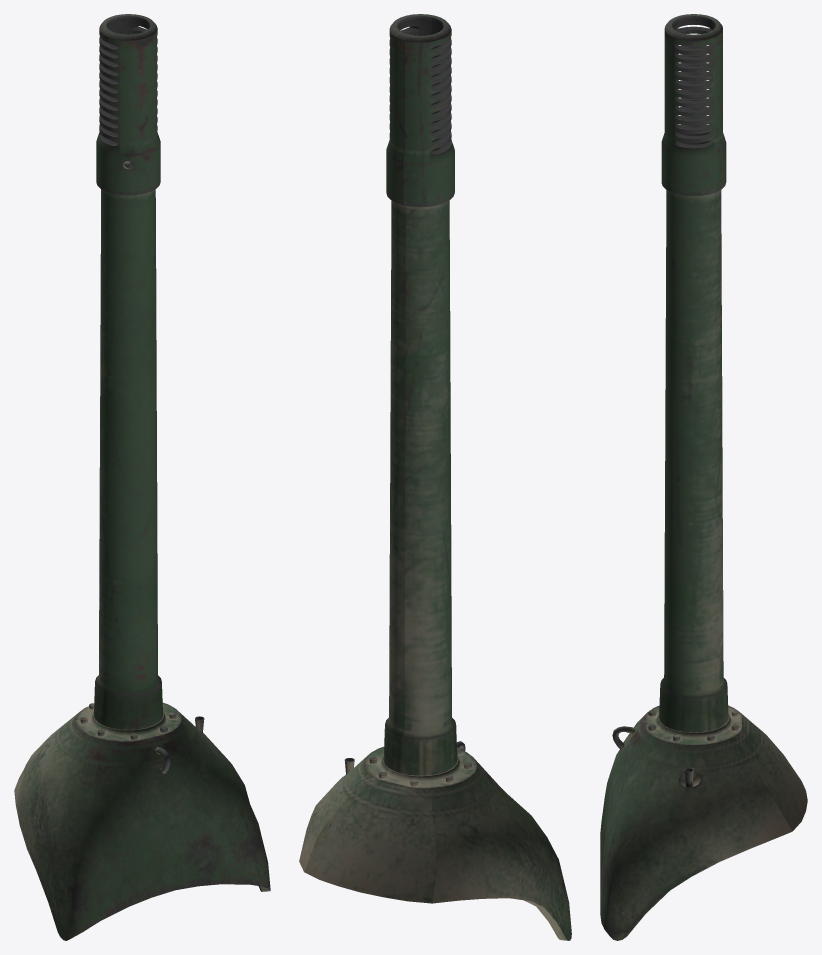
File: Gun_05.glb
3 views of the same model, side by side, from view 1: azimuth 30°, elevation 25°; view 2: azimuth 150°, elevation 25°; view 3: azimuth 270°, elevation 25° (orthographic). The views are drawn at different scales.
Visible parts, largest first — view 1: set_0_group_0; view 2: set_0_group_0; view 3: set_0_group_0.
Part boxes in pixels (x1,y1,x2,y2): set_0_group_0: (14, 14, 270, 940); set_0_group_0: (299, 14, 571, 940); set_0_group_0: (600, 14, 807, 940).
Size of the model in its own units: 0.9868 by 3.91 by 0.8499.
Materials: 1 (1 with a texture image).
